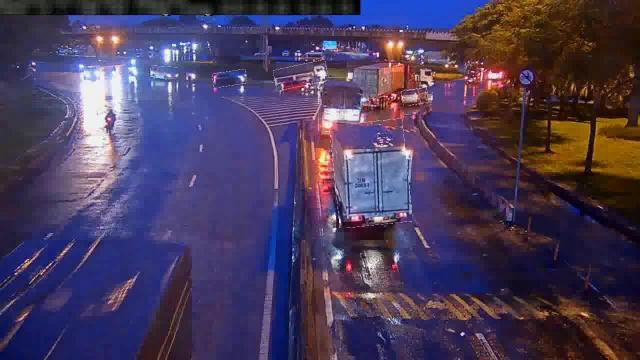Bike: (100, 109, 118, 134)
Car: (213, 70, 247, 86), (402, 88, 428, 105), (150, 66, 178, 78)
Truck: (332, 121, 410, 228), (318, 77, 359, 131), (274, 63, 328, 89)
